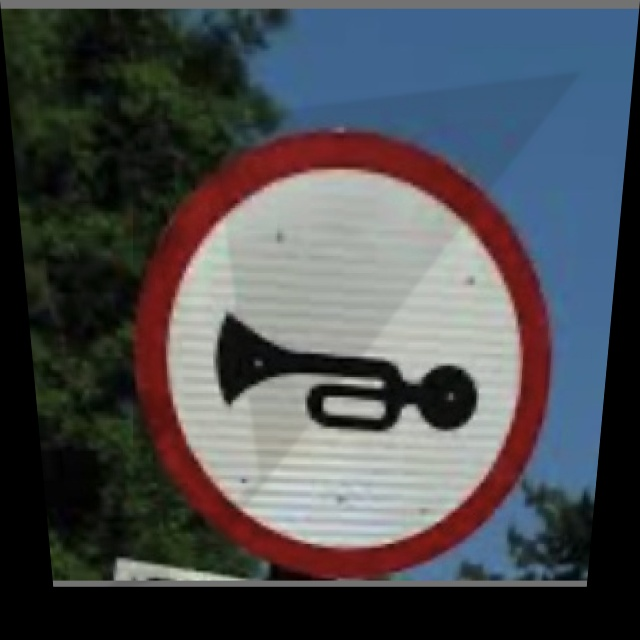Compulsory_Sound_Horn: (133, 141, 553, 547)
